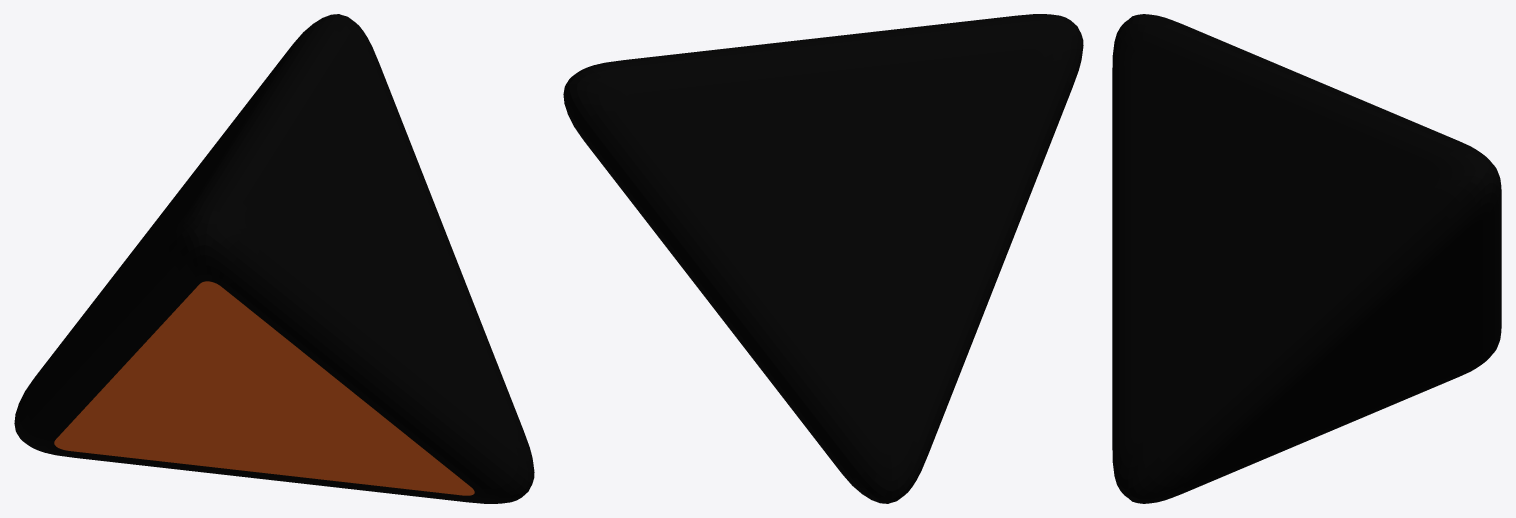
The model's file is t_orange.fbx.
3 views of the same model, side by side, from view 1: azimuth 30°, elevation 25°; view 2: azimuth 150°, elevation 25°; view 3: azimuth 270°, elevation 25° (orthographic). The views are drawn at different scales.
Visible parts, largest first — view 1: t_orange; view 2: t_orange; view 3: t_orange.
Part boxes in pixels (x1=…): t_orange: x1=14, y1=14, x2=534, y2=503; t_orange: x1=563, y1=14, x2=1083, y2=503; t_orange: x1=1112, y1=14, x2=1501, y2=503.
Size of the model in its own units: 88.28 by 88.28 by 88.28.
